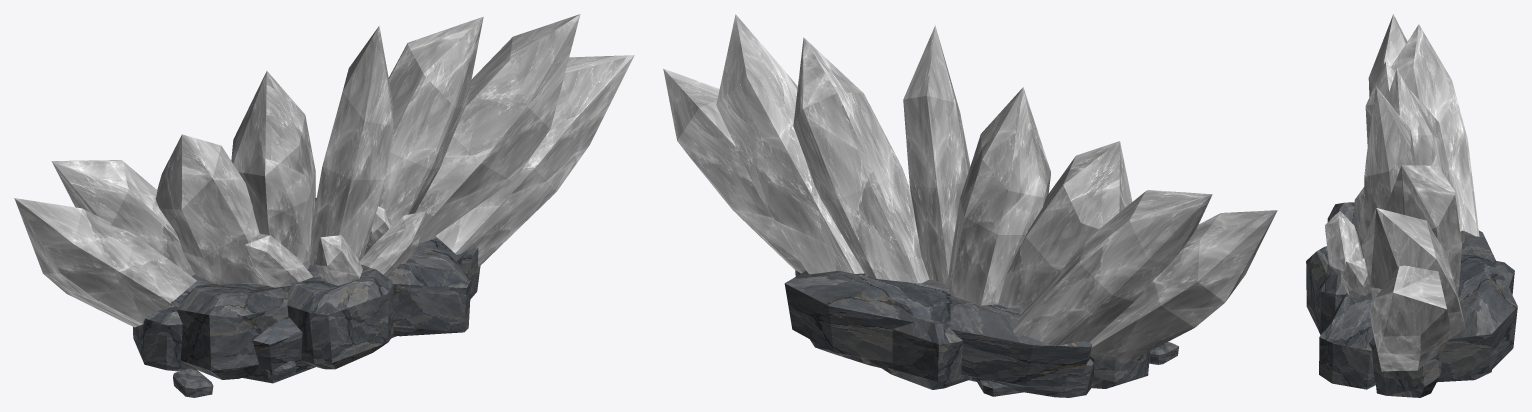
File: Ore_P3.fbx
3 renders of one model, left to right at view 1: azimuth 30°, elevation 25°; view 2: azimuth 150°, elevation 25°; view 3: azimuth 270°, elevation 25°, orthographic. The views are drawn at different scales.
Parts seen in each view (by area): view 1: Ore_P3_LOD0; view 2: Ore_P3_LOD0; view 3: Ore_P3_LOD0.
Part boxes in pixels (bbox=[...]): Ore_P3_LOD0: bbox=[14, 14, 634, 397]; Ore_P3_LOD0: bbox=[663, 14, 1277, 397]; Ore_P3_LOD0: bbox=[1306, 14, 1517, 397].
Size of what is drawn, in the model's own units: 3.03 by 1.43 by 0.9998.
2 materials, 2 textured.
